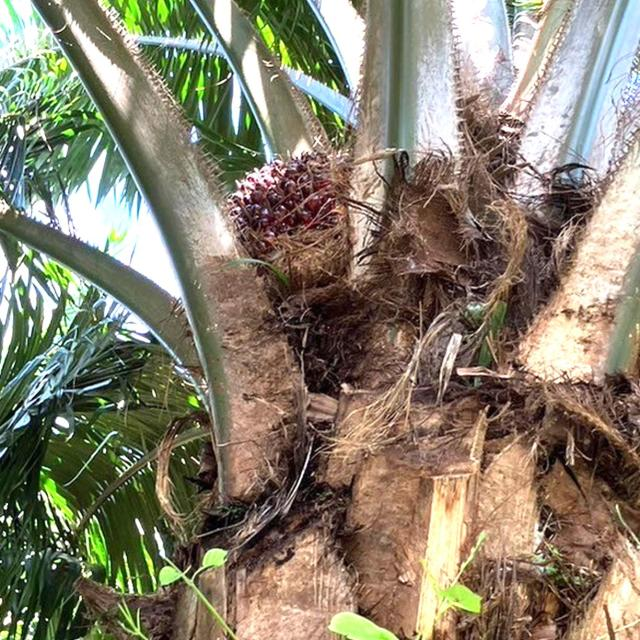ripe: (214, 137, 364, 317)
